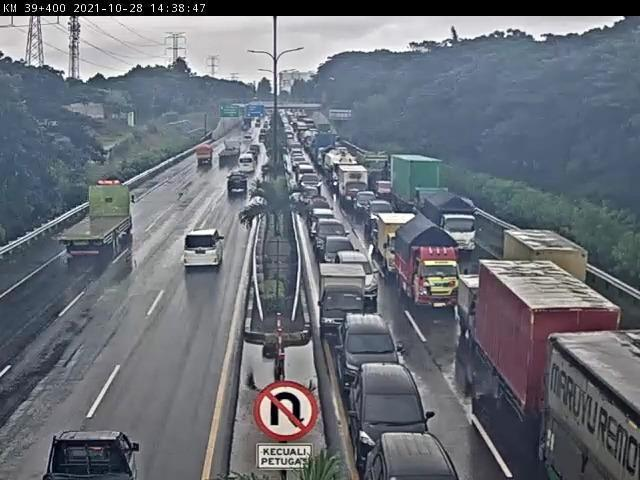bus: (236, 154, 254, 176)
car: (350, 366, 437, 465), (336, 315, 400, 399), (365, 434, 462, 480), (337, 253, 382, 303), (184, 228, 227, 270), (321, 237, 362, 278), (313, 220, 351, 259), (368, 200, 396, 232), (311, 208, 336, 238), (357, 193, 378, 218), (226, 173, 250, 194)
truck: (480, 260, 627, 447), (506, 231, 589, 328), (53, 180, 138, 259), (395, 217, 464, 314), (460, 275, 523, 352), (318, 262, 370, 338), (424, 190, 480, 257), (389, 156, 439, 215), (378, 213, 421, 278), (340, 166, 370, 208), (219, 140, 244, 167), (194, 146, 213, 168)
